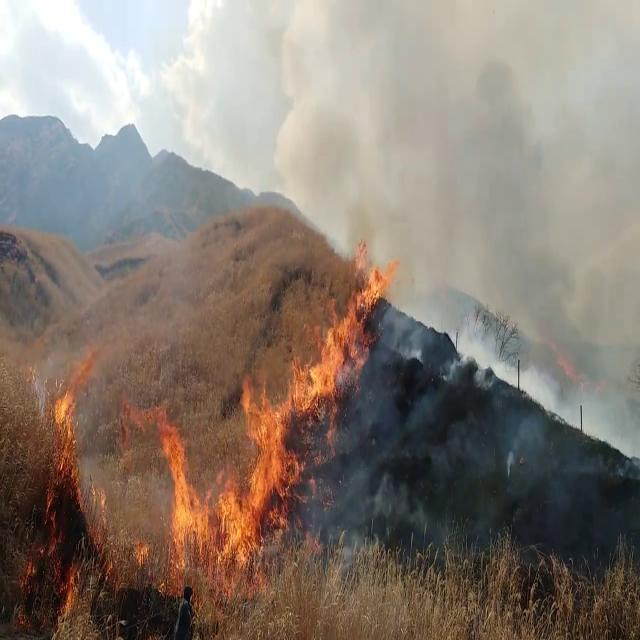Fire: (156, 367, 300, 586), (290, 232, 390, 421), (46, 368, 88, 473)
Smoke: (386, 50, 637, 458)
